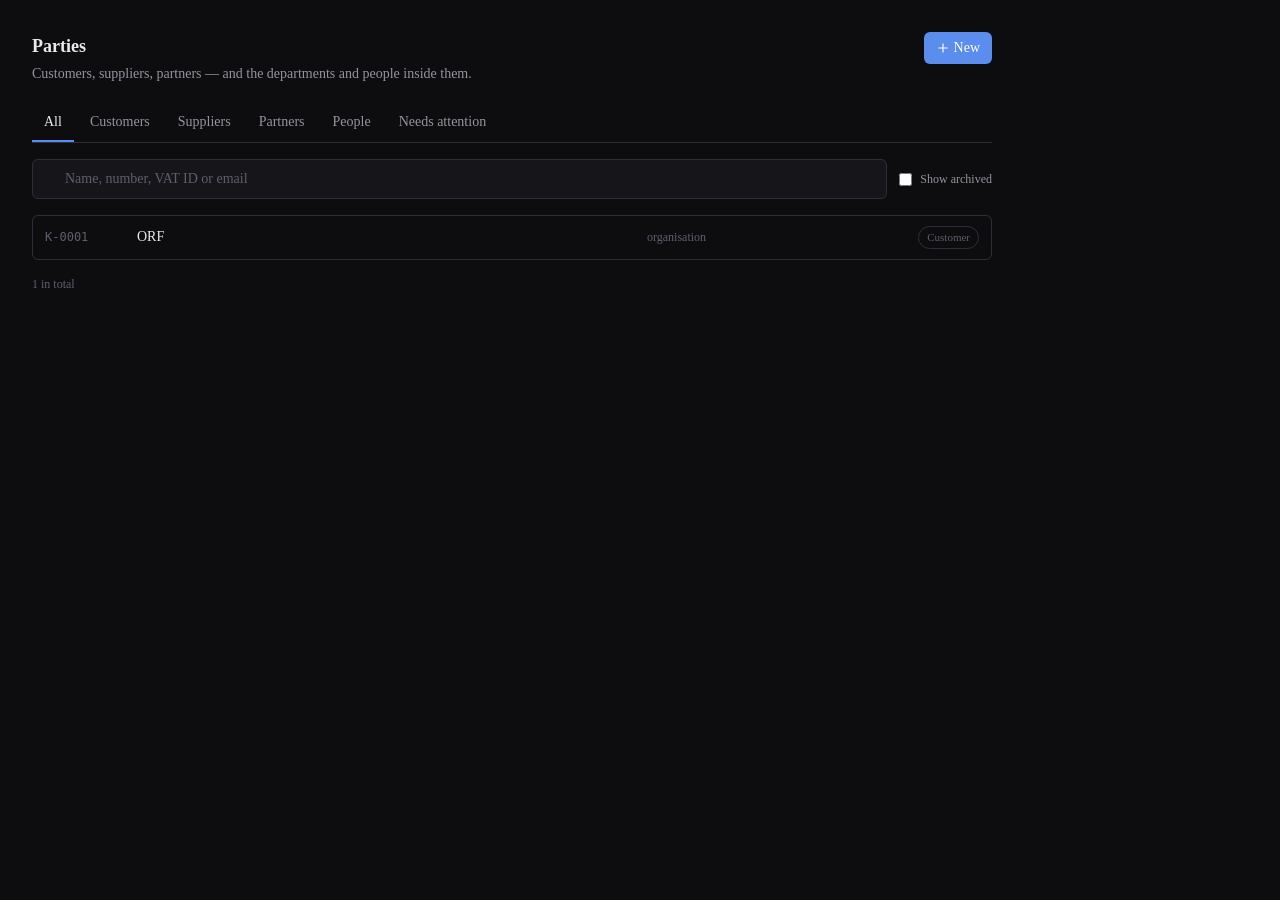
Test: adding a party › shows the server’s sentence when a create is refused
This screenshot has width=1280, height=900.
Check: the text "ORF" is shown, box [137,229,164,244]
Click the button with test id "parties-new": x=958, y=48 [924,32,992,64]
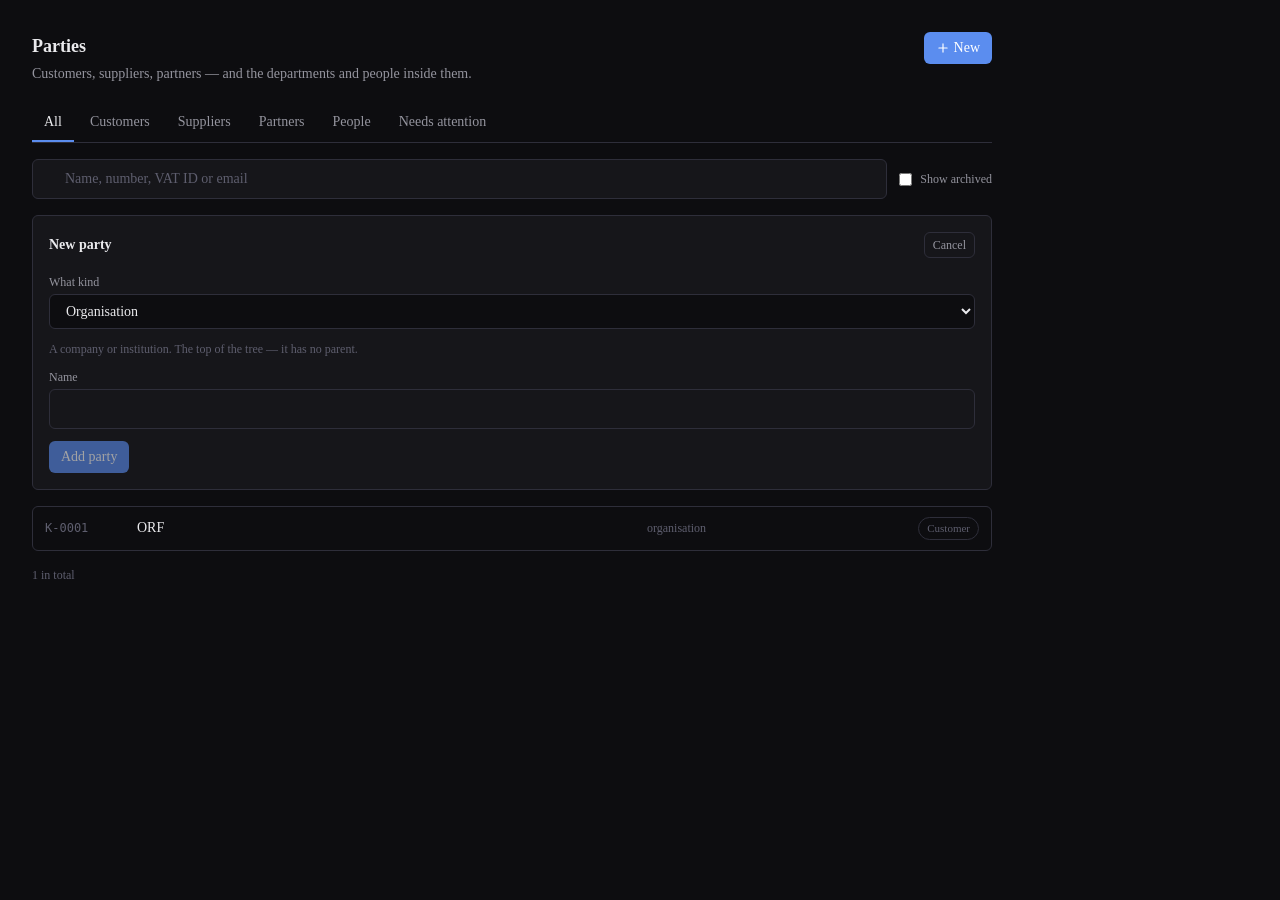
In the field labelled "Name": x=512, y=409 [49,389,975,429], type "Doomed"
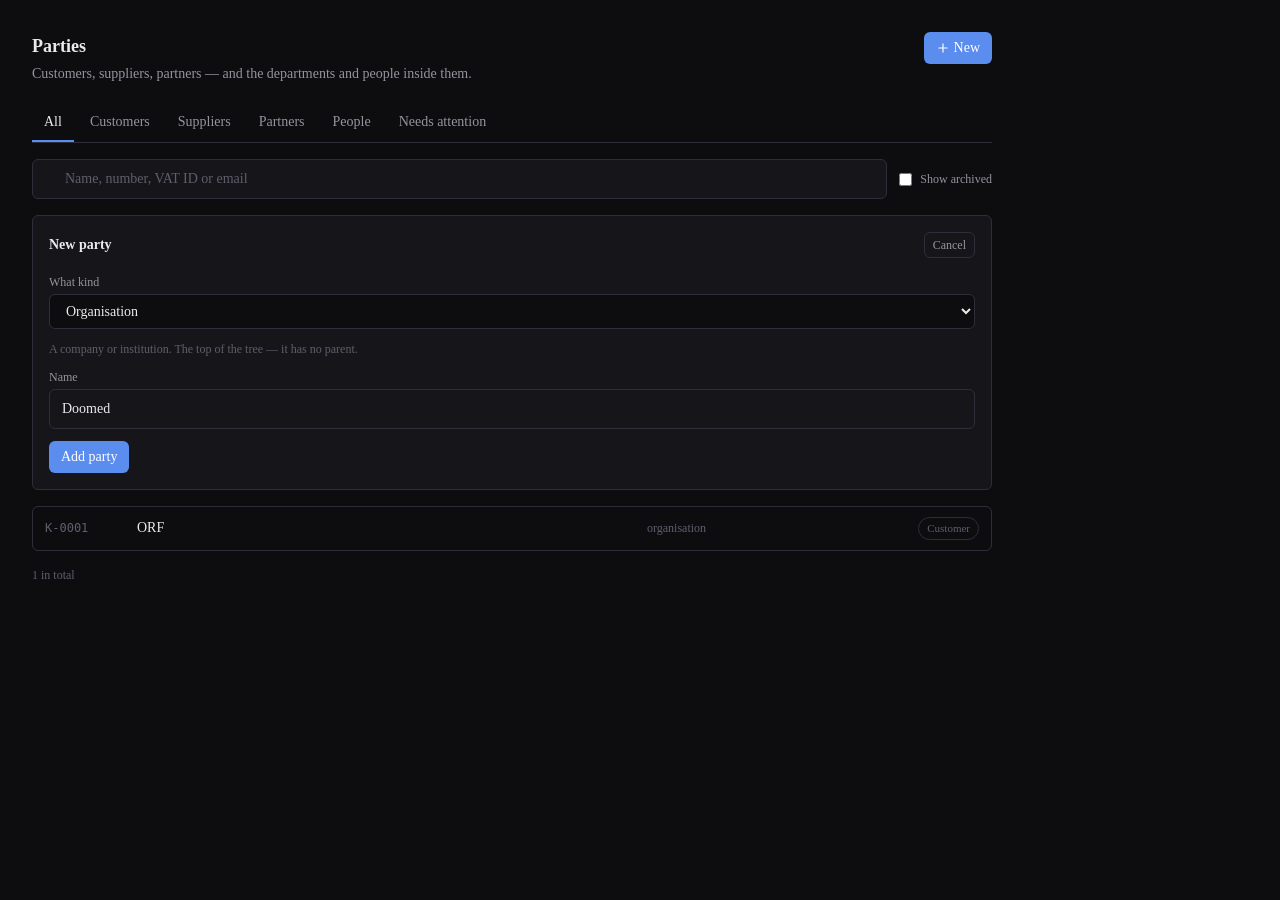
Click the button with test id "parties-new-submit": x=89, y=457 [49,441,129,473]
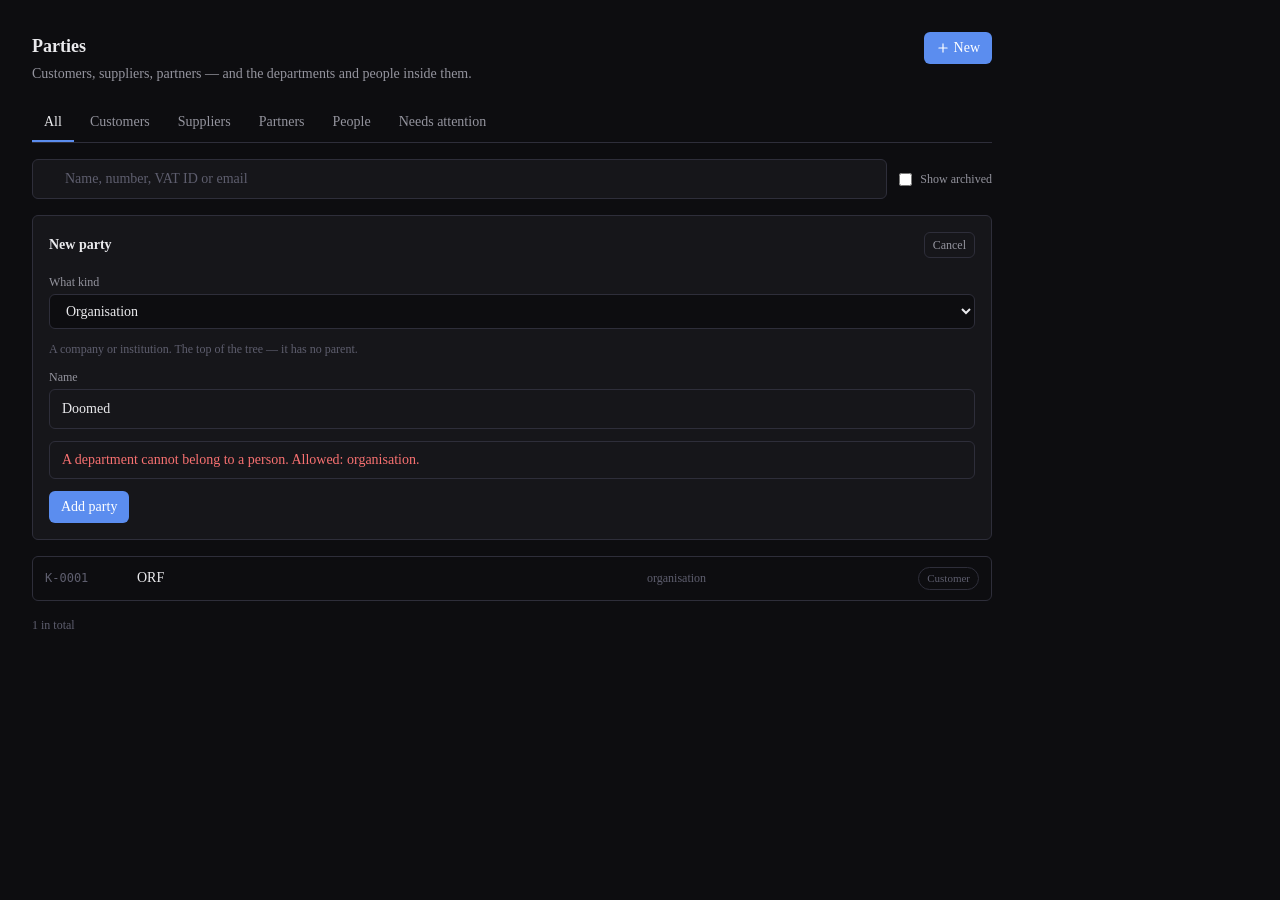
Check: the message with test id "parties-new-error" shows "cannot belong to a person", box [62,452,420,467]
